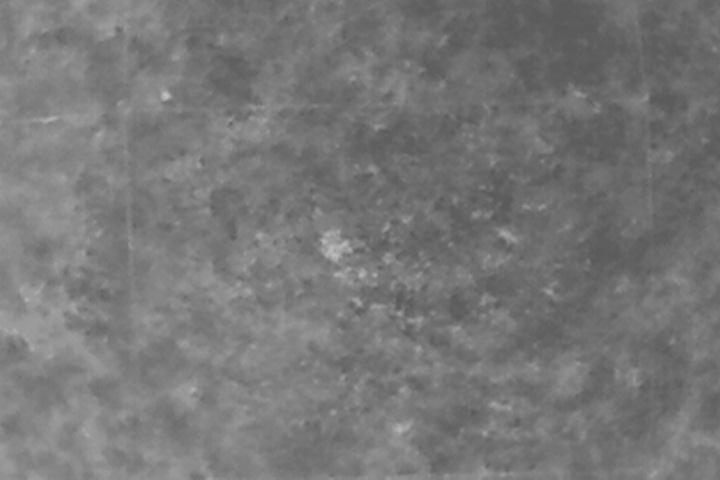landmine: (322, 234, 347, 261)
